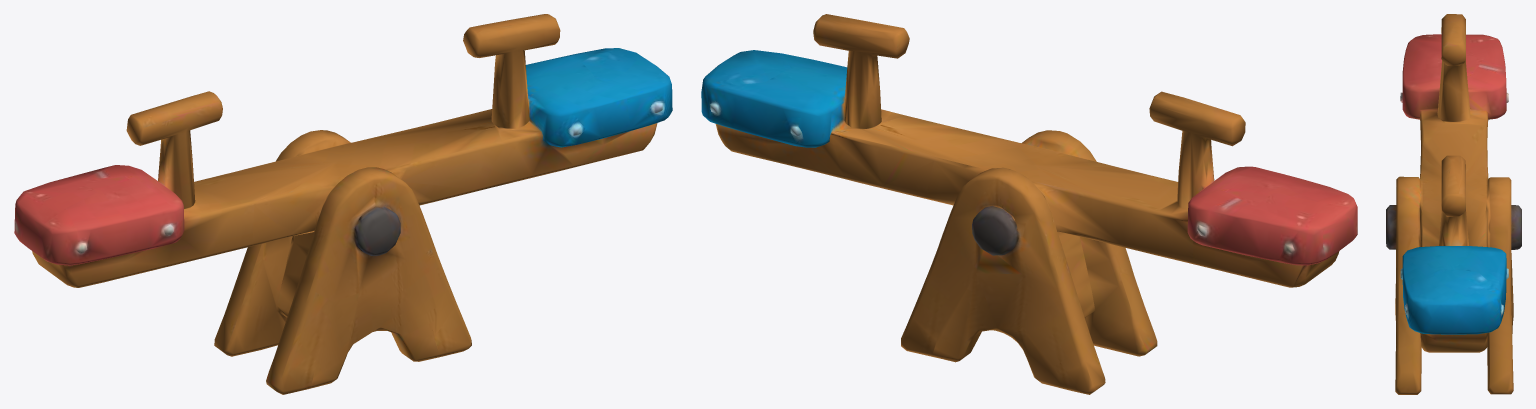
File: seesaw.glb
The picture shows the model from 3 angles, left to right: view 1: azimuth 30°, elevation 25°; view 2: azimuth 150°, elevation 25°; view 3: azimuth 270°, elevation 25°; orthographic projection. The views are drawn at different scales.
Parts seen in each view (by area): view 1: model; view 2: model; view 3: model.
Boxes of the visible parts, box(x1,y1,x2,y2) form: model: box(14, 14, 672, 394); model: box(701, 14, 1357, 394); model: box(1386, 14, 1521, 394).
Size of the model in its own units: 1.89 by 0.831 by 0.3999.
Materials: 1 (1 with a texture image).
